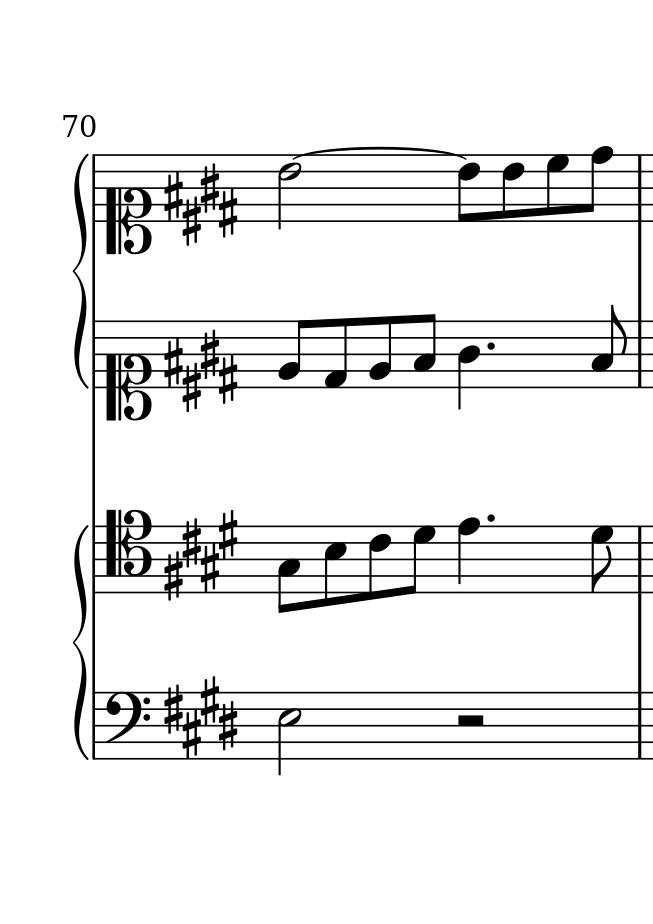0: (80, 112, 96, 140)
2_5: (276, 693, 302, 772)
2_6: (276, 153, 300, 231)
4_4: (456, 321, 481, 410)
4_8: (456, 516, 480, 595)
7: (62, 112, 77, 140)
8_1: (322, 318, 350, 391)
8_2: (277, 319, 309, 389), (367, 314, 392, 390)
8_3: (590, 303, 627, 390), (275, 524, 301, 615), (412, 312, 437, 390)
8_5: (322, 524, 347, 607)
8_6: (457, 152, 482, 224), (368, 524, 391, 602), (501, 152, 525, 223)
8_7: (405, 523, 434, 595), (544, 152, 570, 222), (590, 524, 615, 594)
8_8: (581, 145, 613, 223)
Brace: (72, 151, 91, 391), (72, 521, 91, 756)
E_S: (161, 507, 240, 602), (163, 326, 244, 415), (161, 161, 238, 246), (165, 674, 235, 758)
Fclef: (102, 689, 149, 760)
Rests2: (454, 713, 487, 729)
Single_barline: (632, 525, 648, 594), (632, 320, 648, 388), (632, 692, 648, 760), (633, 153, 648, 223), (89, 524, 103, 595), (89, 319, 102, 391), (89, 693, 102, 759), (88, 156, 100, 221)
Slur: (292, 146, 468, 163)
Soprano_Cclef: (104, 319, 152, 419), (104, 153, 150, 253)
Tensor_Cclef: (105, 509, 152, 593)
dot: (484, 339, 497, 353), (484, 512, 497, 525)
